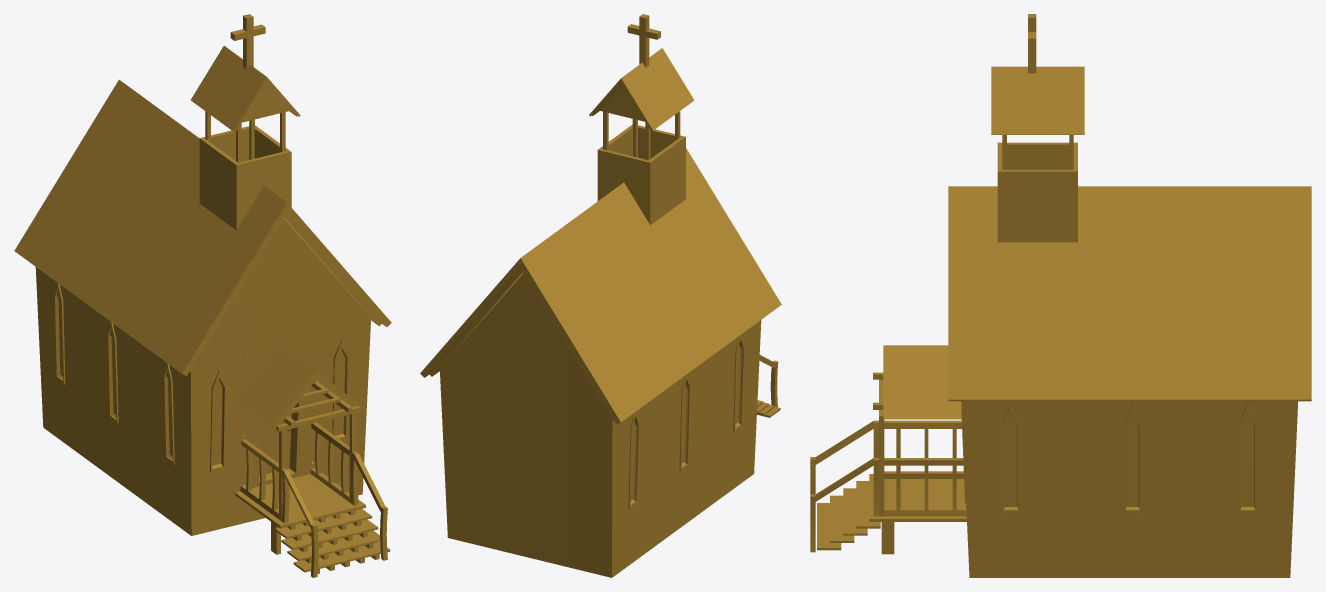
The model's file is S_church.fbx.
3 views of the same model, side by side, from view 1: azimuth 30°, elevation 25°; view 2: azimuth 150°, elevation 25°; view 3: azimuth 270°, elevation 25° (orthographic). The views are drawn at different scales.
Visible parts, largest first — view 1: polySurface41, polySurface84, polySurface85, polySurface88, polySurface113, polySurface70, polySurface44, OneGate18, polySurface71, pCube24, polySurface45, pCube20; view 2: polySurface41, polySurface82, polySurface84, polySurface88; view 3: polySurface41, polySurface84, polySurface88, polySurface70, polySurface44, OneGate18, polySurface71.
Part boxes in pixels (box(x1,y1,x2,y2)): polySurface41: box(14, 79, 391, 376); polySurface84: box(35, 267, 244, 535); polySurface85: box(191, 257, 370, 535); polySurface88: box(191, 14, 300, 230); polySurface113: box(242, 219, 317, 523); polySurface70: box(235, 473, 390, 572); polySurface44: box(234, 344, 361, 428); OneGate18: box(240, 422, 349, 518); polySurface71: box(281, 451, 387, 577); pCube24: box(279, 413, 356, 520); polySurface45: box(287, 510, 379, 573); pCube20: box(276, 406, 360, 431); polySurface41: box(420, 148, 781, 424); polySurface82: box(439, 274, 612, 577); polySurface84: box(612, 320, 761, 577); polySurface88: box(589, 14, 694, 224); polySurface41: box(948, 186, 1311, 401); polySurface84: box(961, 401, 1298, 577); polySurface88: box(991, 14, 1084, 242); polySurface70: box(817, 474, 966, 550); polySurface44: box(883, 345, 961, 419); OneGate18: box(884, 420, 966, 516); polySurface71: box(810, 420, 878, 552).
Size of the model in its own units: 490 by 1067 by 937.
